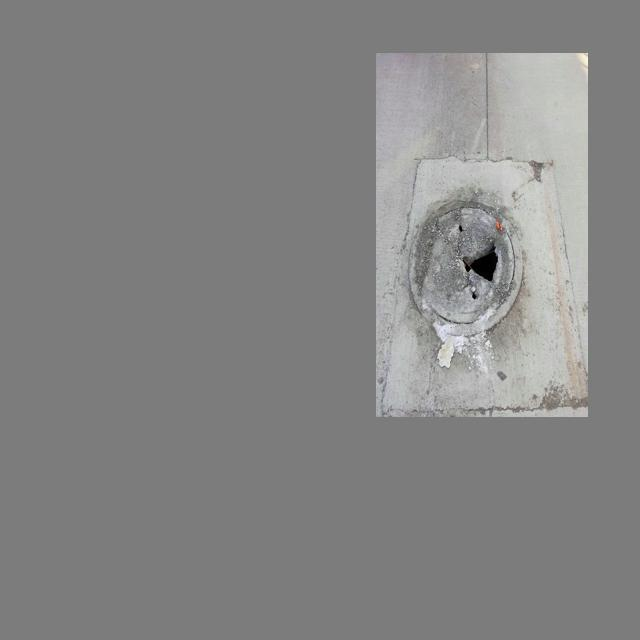broke: (407, 201, 523, 334)
